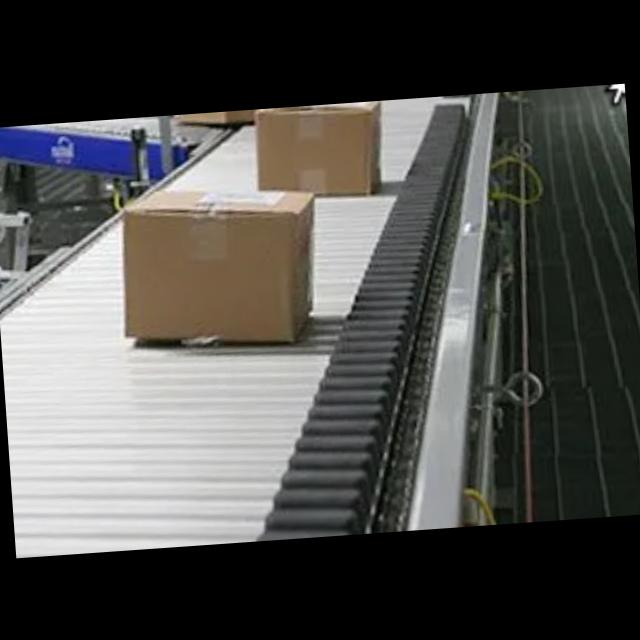box: (113, 178, 324, 352), (252, 98, 386, 196), (178, 104, 312, 122)
